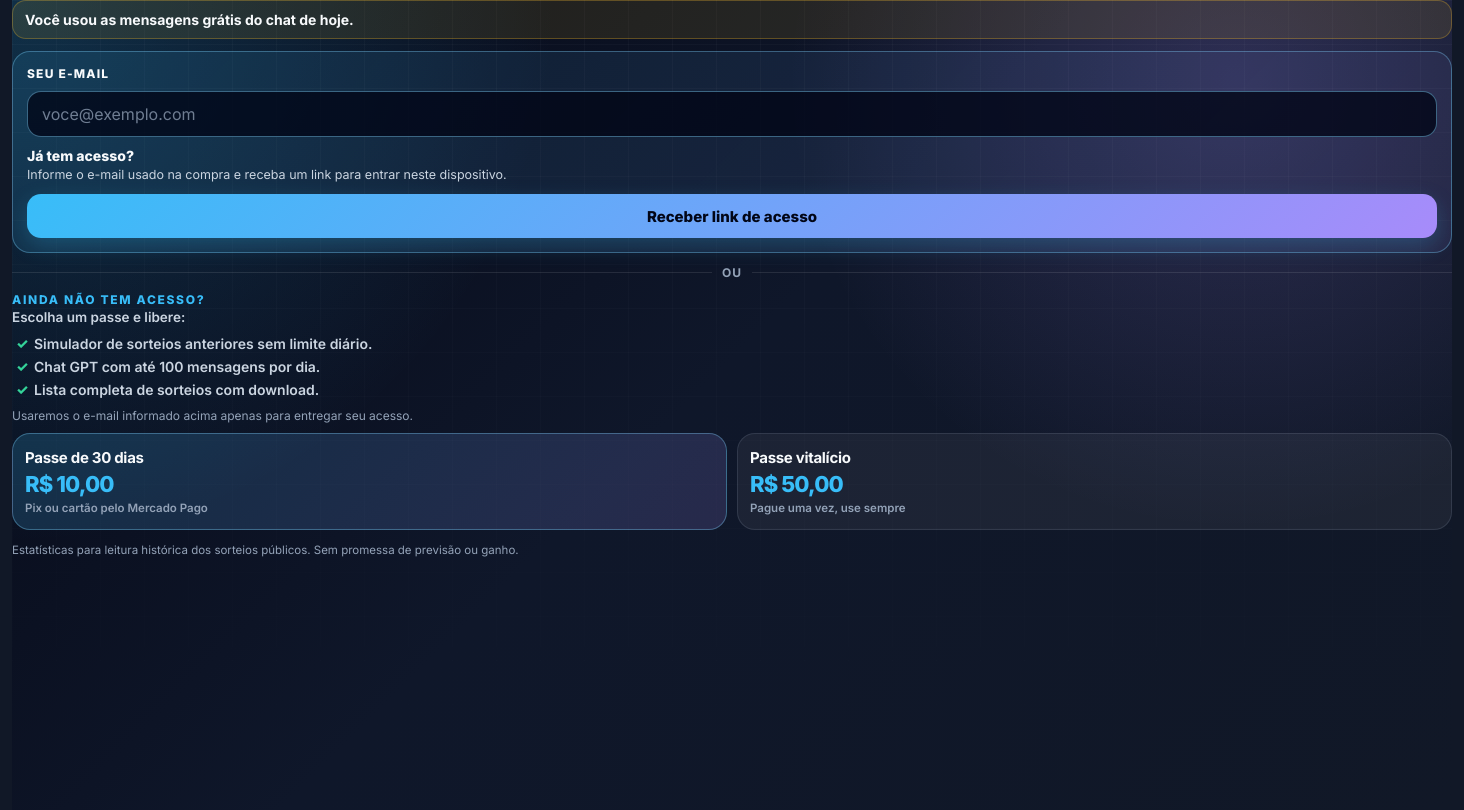
Test case: PaywallDialog › shows the server error when the checkout fails
This screenshot has width=1464, height=810.
Type "buyer@example.com" into the field labelled "Seu e-mail".
click(732, 114); type("buyer@example.com")  # box [27,91,1437,137]
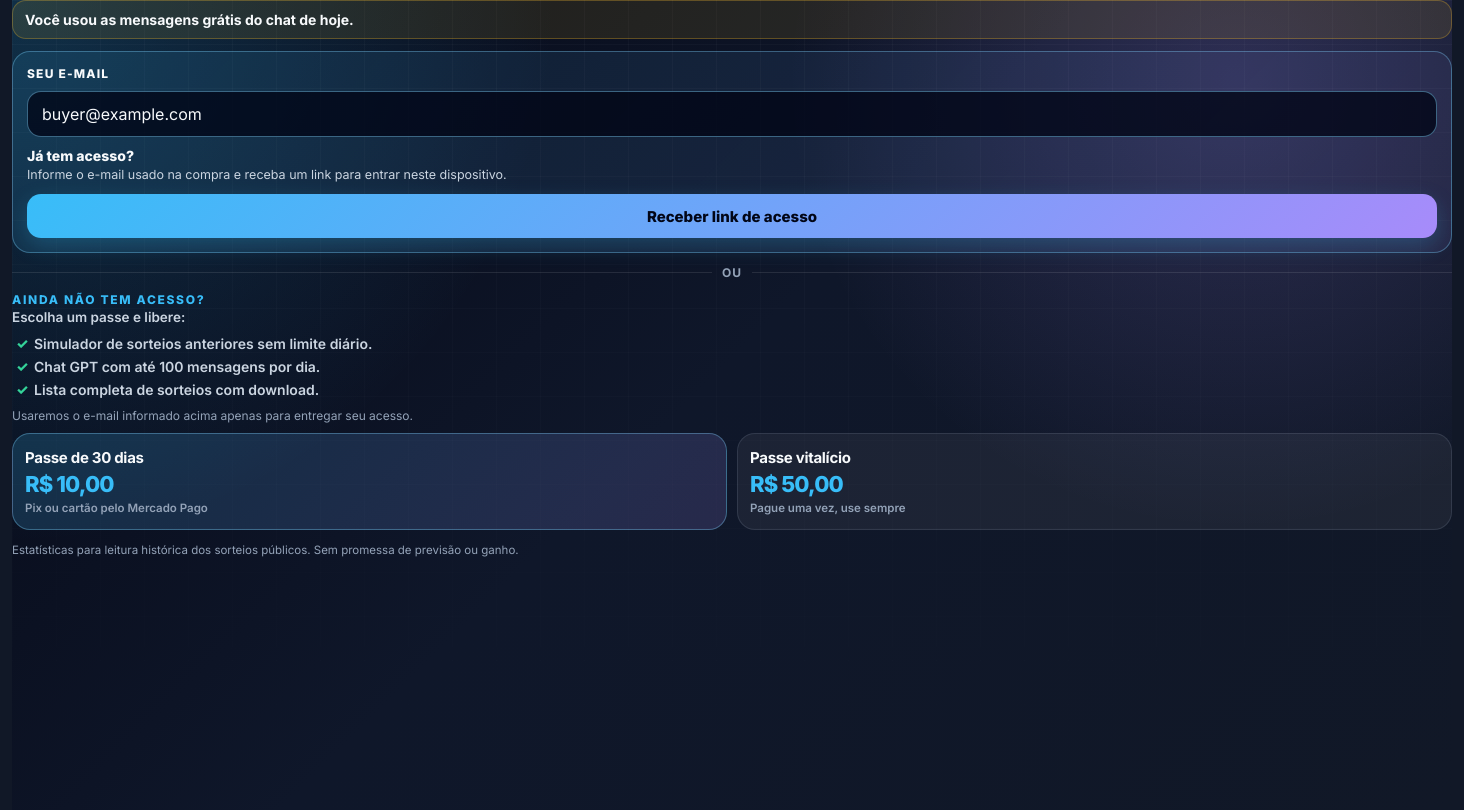
Click the button "Passe de 30 dias R$ 10,00 Pix ou cartão pelo Mercado Pago".
click(84, 458)  # box [12,433,727,530]
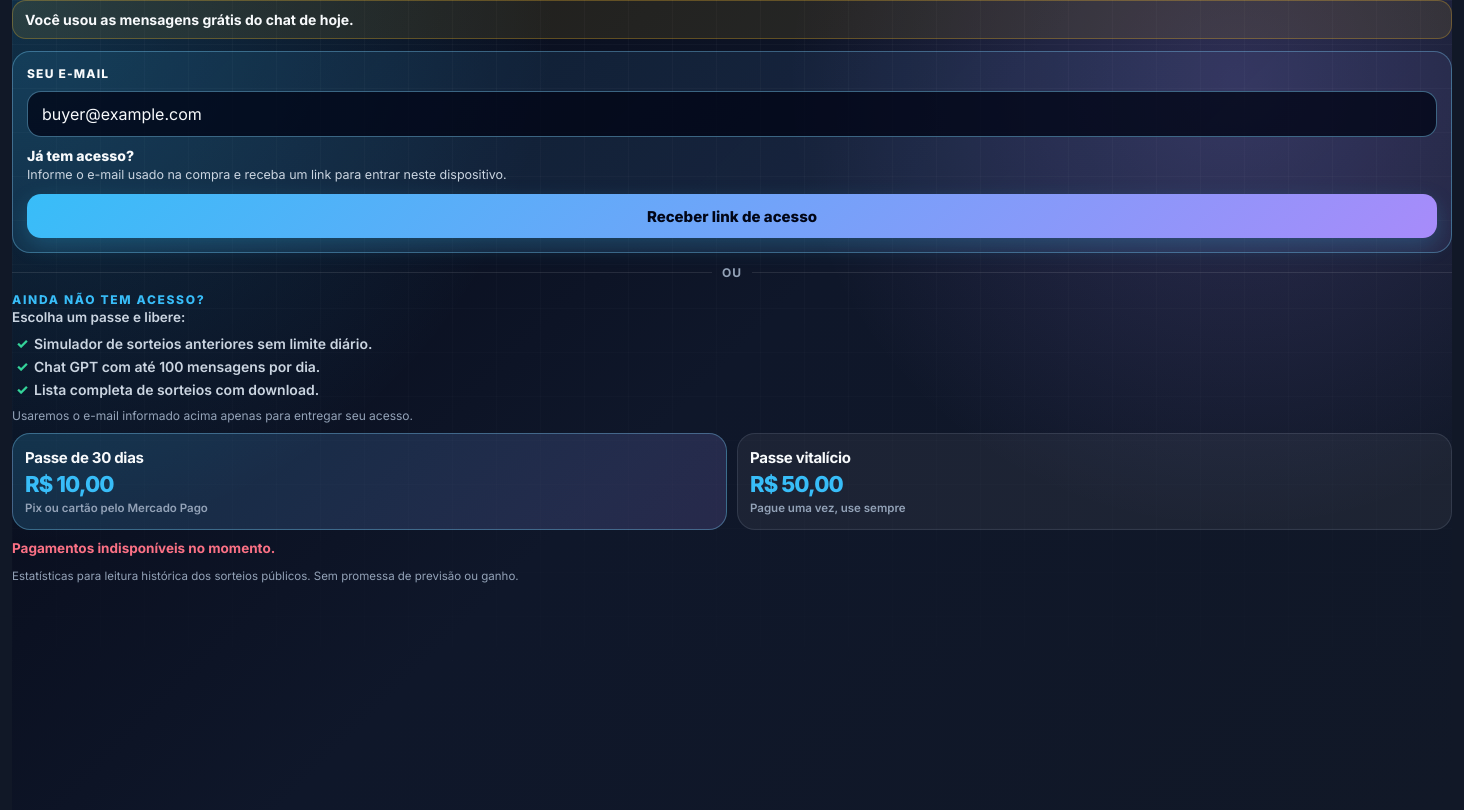
Now the message reads "Pagamentos indisponíveis no momento.", box [12,540,275,556]
